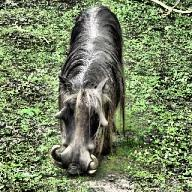boar: (50, 4, 127, 176)
